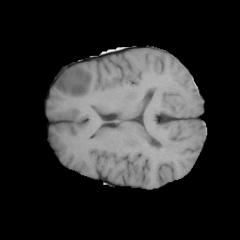glioma: (54, 65, 92, 97)
